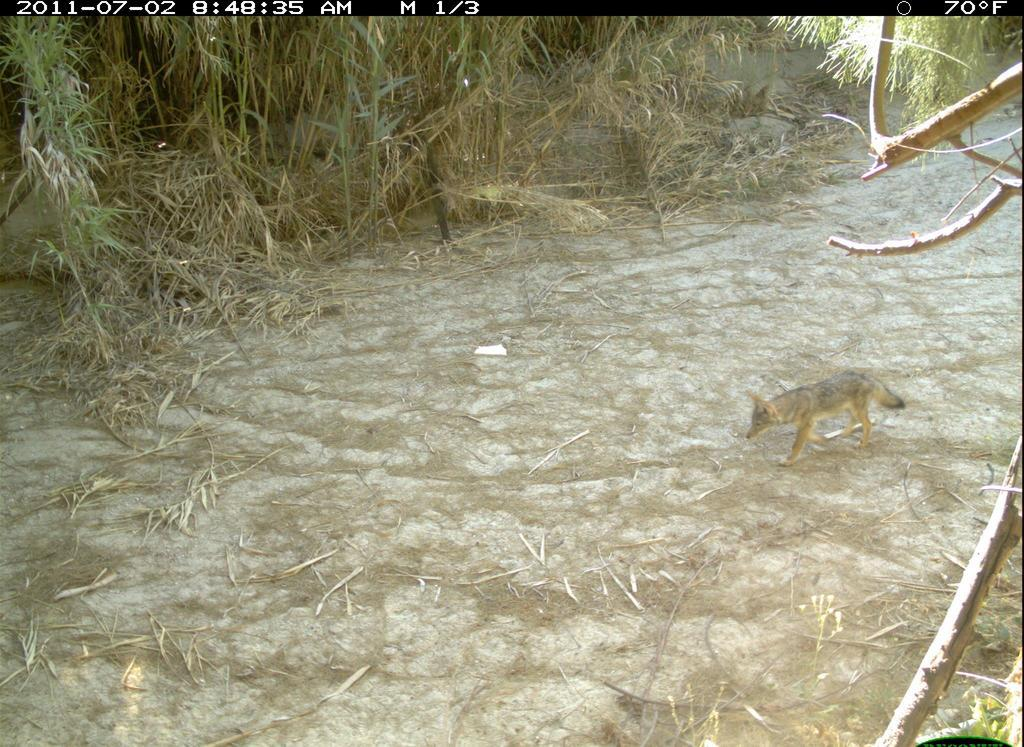coyote: (729, 363, 909, 468)
